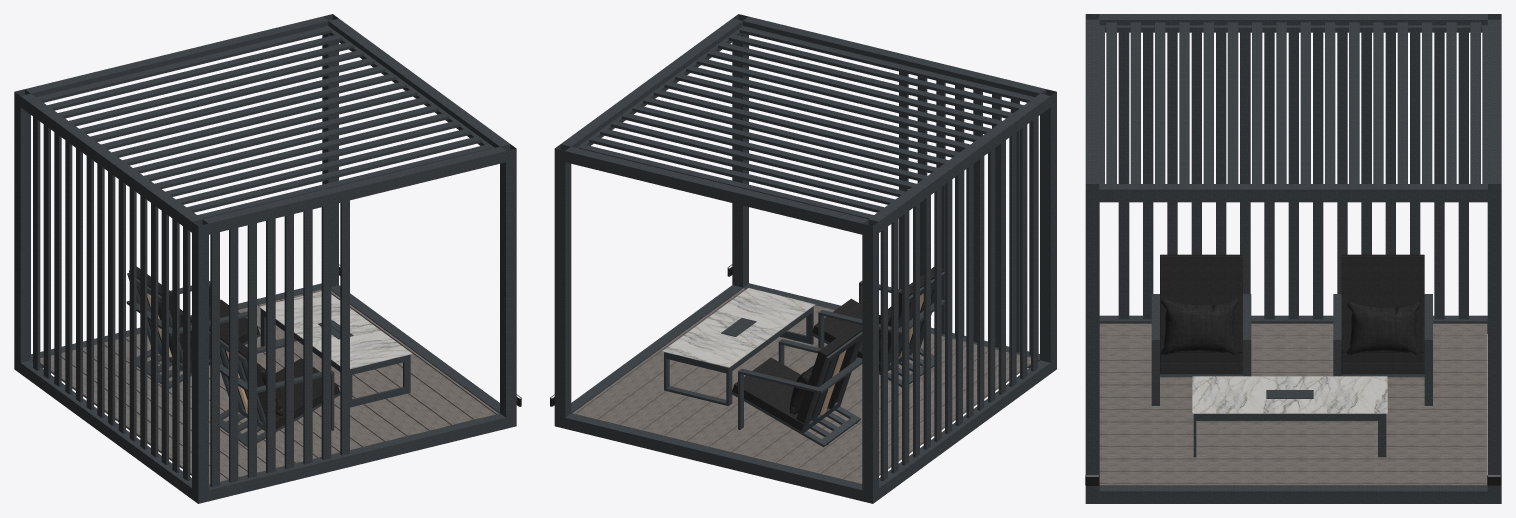
File: 3x3-Comp.gltf
3 renders of one model, left to right at view 1: azimuth 30°, elevation 25°; view 2: azimuth 150°, elevation 25°; view 3: azimuth 270°, elevation 25°, orthographic. The views are drawn at different scales.
Visible parts, largest first — view 1: 100/100 (11) (1).001, 100/100 (9) (1).001, 100/100 (12).001, 100/100 (2) (1).001, 100/100 (3) (1).001, 100/100 (7) (1).001, Mesada Dekton, 100/100 (10) (1).001, 100/100 (5) (1), Cuerpo1892.001, 100/100 (6) (1).001, Cuerpo1884.001 (+58 smaller); view 2: Mesada Dekton, 100/100 (10) (1).001, 100/100 (8) (1), 100/100 (1) (1).001, 100/100 (3) (1).001, 100/100 (12).001, 100/100 (7) (1).001, 100/100 (11) (1).001, 100/100 (5) (1), 100/100 (6) (1).001, Piso (13) (1), 100/100 (2) (1).001 (+58 smaller); view 3: 100/100 (4) (1), 100/100 (6) (1).001, Mesada Dekton, almohadon:1.001, Piso (2) (1), Piso (8) (1), Piso (18) (1), Piso (7) (1), Piso (13) (1), almohadon:1, 100/100 (1) (1).001, 100/100 (2) (1).001 (+54 smaller).
Part boxes in pixels (box(x1,y1,x2,y2)): 100/100 (11) (1).001: box(203, 146, 505, 234); 100/100 (9) (1).001: box(209, 413, 505, 501); 100/100 (12).001: box(192, 219, 208, 503); 100/100 (2) (1).001: box(500, 144, 516, 428); 100/100 (3) (1).001: box(14, 89, 30, 373); 100/100 (7) (1).001: box(20, 93, 202, 232); Mesada Dekton: box(259, 291, 412, 369); 100/100 (10) (1).001: box(25, 16, 328, 97); 100/100 (5) (1): box(20, 360, 191, 498); Cuerpo1892.001: box(321, 205, 331, 459); 100/100 (6) (1).001: box(328, 18, 509, 147); Cuerpo1884.001: box(266, 218, 275, 473); Mesada Dekton: box(662, 288, 815, 367); 100/100 (10) (1).001: box(565, 146, 867, 234); 100/100 (8) (1): box(565, 413, 862, 501); 100/100 (1) (1).001: box(554, 144, 571, 428); 100/100 (3) (1).001: box(862, 219, 878, 503); 100/100 (12).001: box(1040, 89, 1056, 373); 100/100 (7) (1).001: box(869, 93, 1050, 232); 100/100 (11) (1).001: box(743, 16, 1045, 96); 100/100 (5) (1): box(879, 360, 1050, 499); 100/100 (6) (1).001: box(561, 18, 742, 147); Piso (13) (1): box(643, 305, 834, 435); 100/100 (2) (1).001: box(732, 14, 748, 287); 100/100 (4) (1): box(1099, 485, 1487, 503); 100/100 (6) (1).001: box(1099, 184, 1487, 202); Mesada Dekton: box(1192, 376, 1387, 413); almohadon:1.001: box(1341, 254, 1424, 352); Piso (2) (1): box(1099, 459, 1487, 471); Piso (8) (1): box(1099, 471, 1487, 485); Piso (18) (1): box(1099, 447, 1487, 459); Piso (7) (1): box(1099, 422, 1487, 434); Piso (13) (1): box(1099, 434, 1487, 446); almohadon:1: box(1160, 254, 1242, 352); 100/100 (1) (1).001: box(1487, 184, 1501, 503); 100/100 (2) (1).001: box(1085, 184, 1099, 503).
Bounding box in the file's own units: 30.5 × 25 × 30.02.
15 materials, 10 textured.
